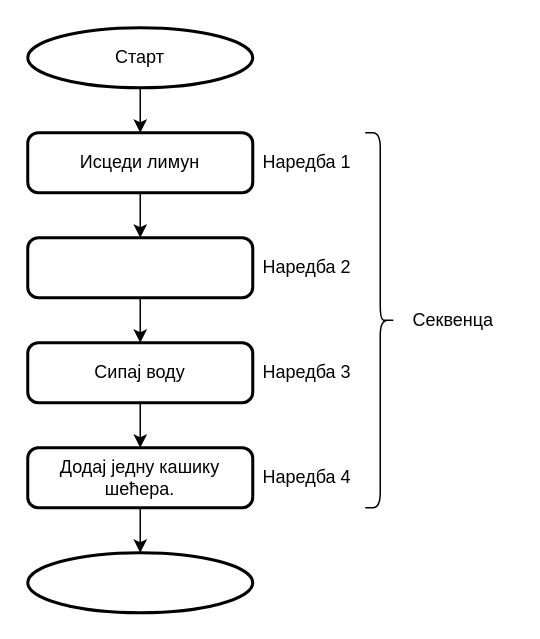
Image size: 540x639. Some labels were removed from this diagram. The shapes that lost their labels are listed below. From the top down, each one's box as (x1, y1, x2, y2) in pixels, then its label:
(26, 236, 254, 298): Додај лимунов сок
(26, 550, 254, 614): Лимунада је готова
